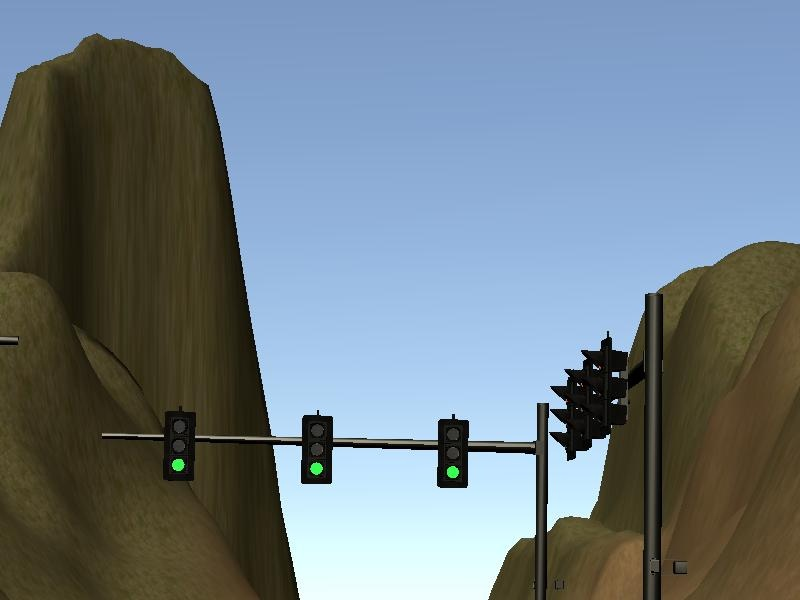green: (300, 411, 336, 482), (163, 408, 196, 481), (439, 417, 469, 488)
